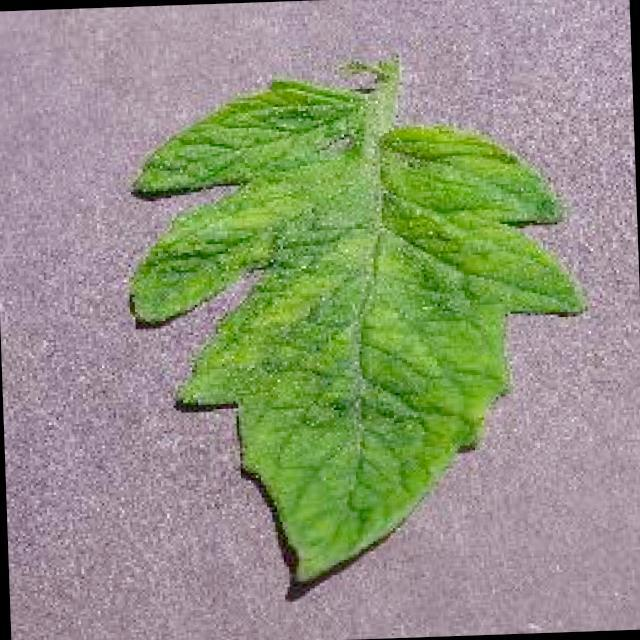Tomato mosaic virus leaf: (120, 64, 604, 595)
